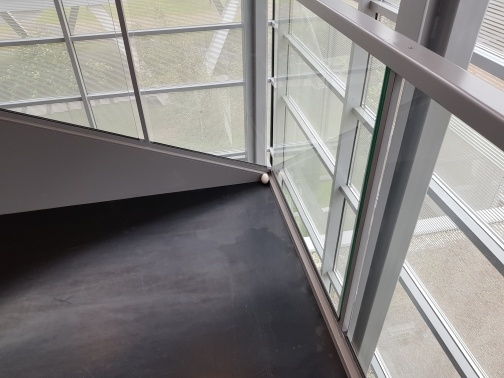egg: (258, 171, 271, 185)
